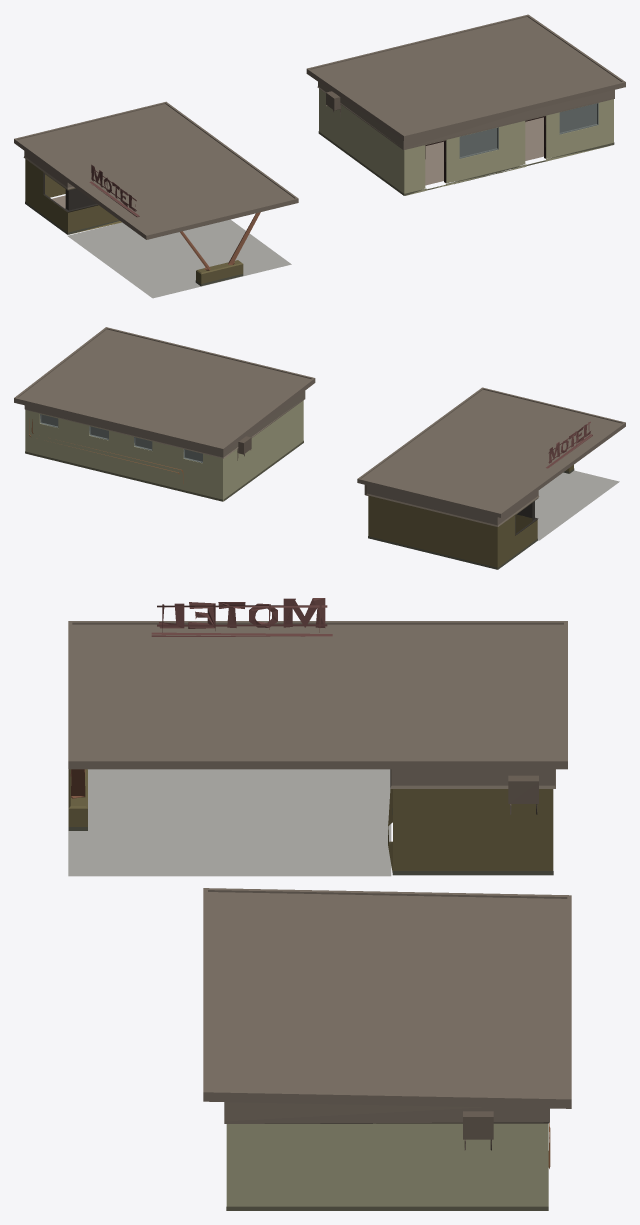
The model's file is modular-motel.zfix-v14.lod2.glb.
3 views of the same model, one above another, from view 1: azimuth 30°, elevation 25°; view 2: azimuth 150°, elevation 25°; view 3: azimuth 270°, elevation 25° (orthographic). The views are drawn at different scales.
Parts seen in each view (by area): view 1: ReceptionCabinWindow_ReceptionCabinWindows_0; view 2: ReceptionCabinWindow_ReceptionCabinWindows_0; view 3: ReceptionCabinWindow_ReceptionCabinWindows_0.
Part boxes in pixels (x1=…): ReceptionCabinWindow_ReceptionCabinWindows_0: x1=14, y1=14, x2=625, y2=298; ReceptionCabinWindow_ReceptionCabinWindows_0: x1=14, y1=327, x2=625, y2=569; ReceptionCabinWindow_ReceptionCabinWindows_0: x1=68, y1=598, x2=571, y2=1210.
Size of the model in its own units: 24.49 by 3.77 by 10.94.
